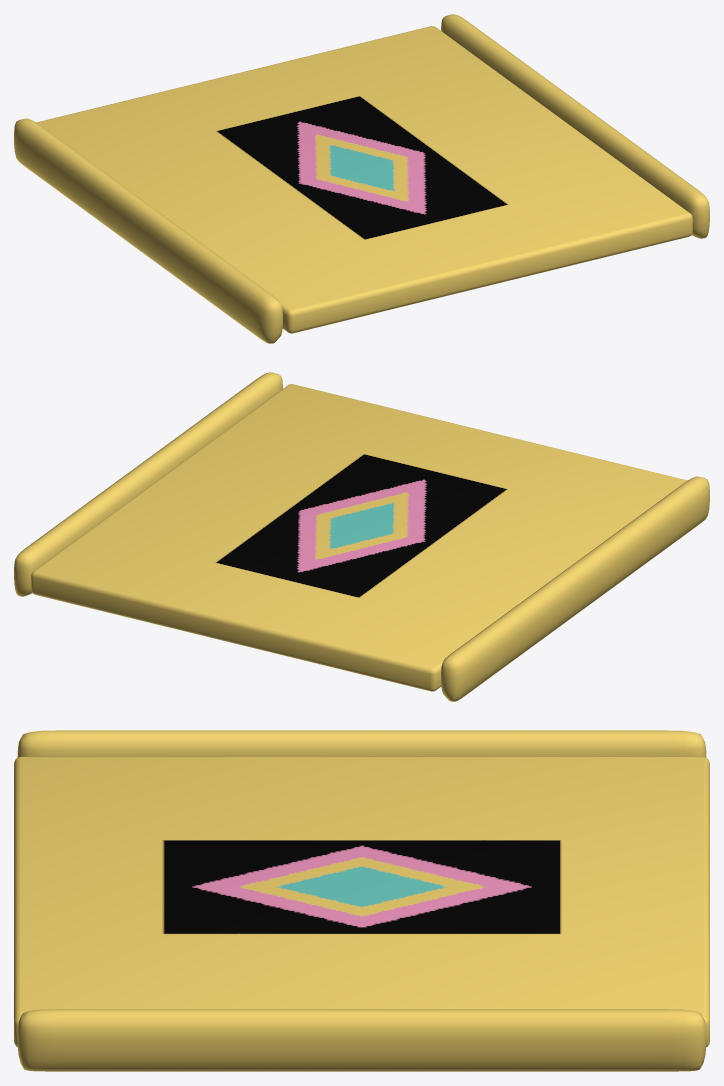
Rendered from conveyor.glb.
3 views of the same model, one above another, from view 1: azimuth 30°, elevation 25°; view 2: azimuth 150°, elevation 25°; view 3: azimuth 270°, elevation 25° (orthographic). The views are drawn at different scales.
Parts seen in each view (by area): view 1: belt_surface, rails; view 2: belt_surface, rails; view 3: belt_surface, rails.
Part boxes in pixels (box(x1,y1,x2,y2)): belt_surface: box(36, 26, 692, 333); rails: box(14, 14, 709, 343); belt_surface: box(31, 384, 687, 691); rails: box(14, 372, 709, 701); belt_surface: box(14, 756, 709, 1047); rails: box(17, 730, 706, 1071).
Bounding box in the file's own units: 3.99 × 0.3719 × 4.
Materials: 2 (2 with a texture image).
